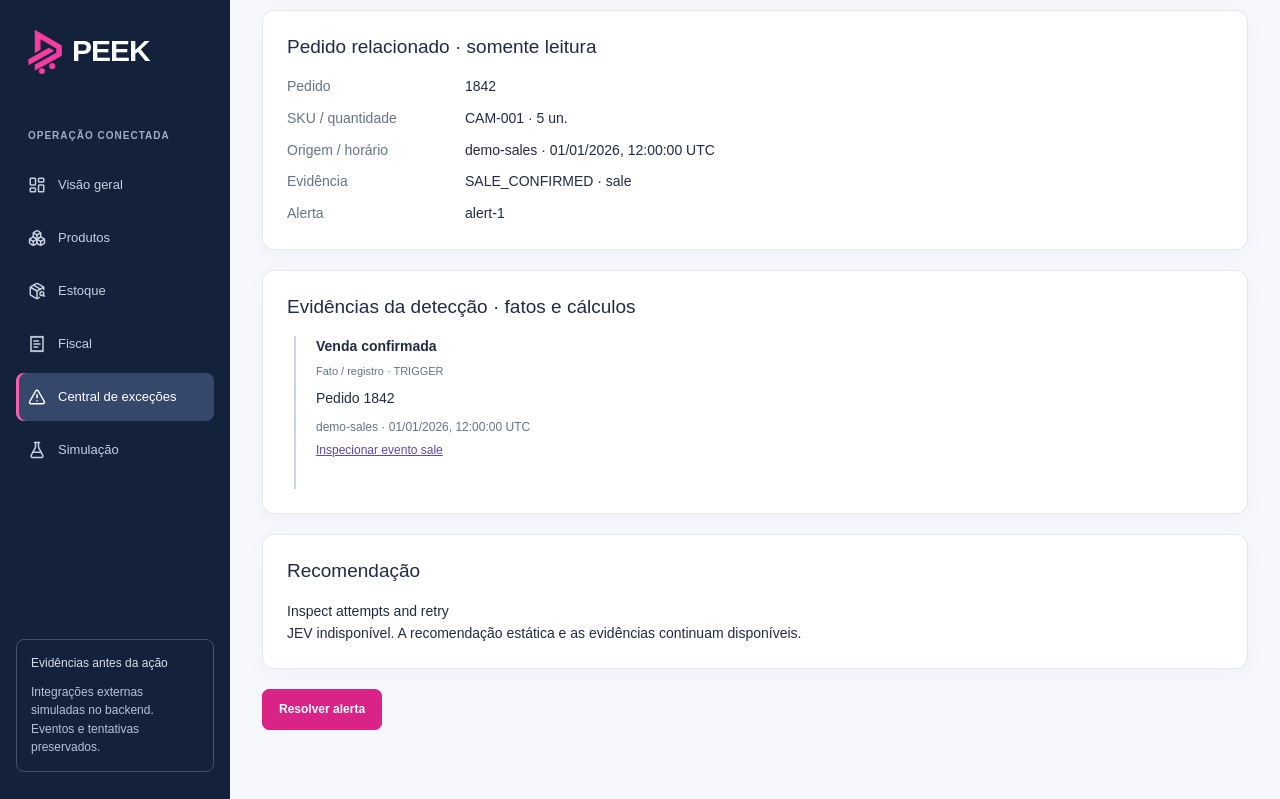
Test: API-backed investigation › resolution requires note, preserves error state and refreshes resolved details
(page scrolled)
Click the button "Resolver alerta".
click(322, 710)  # box [262,689,382,730]
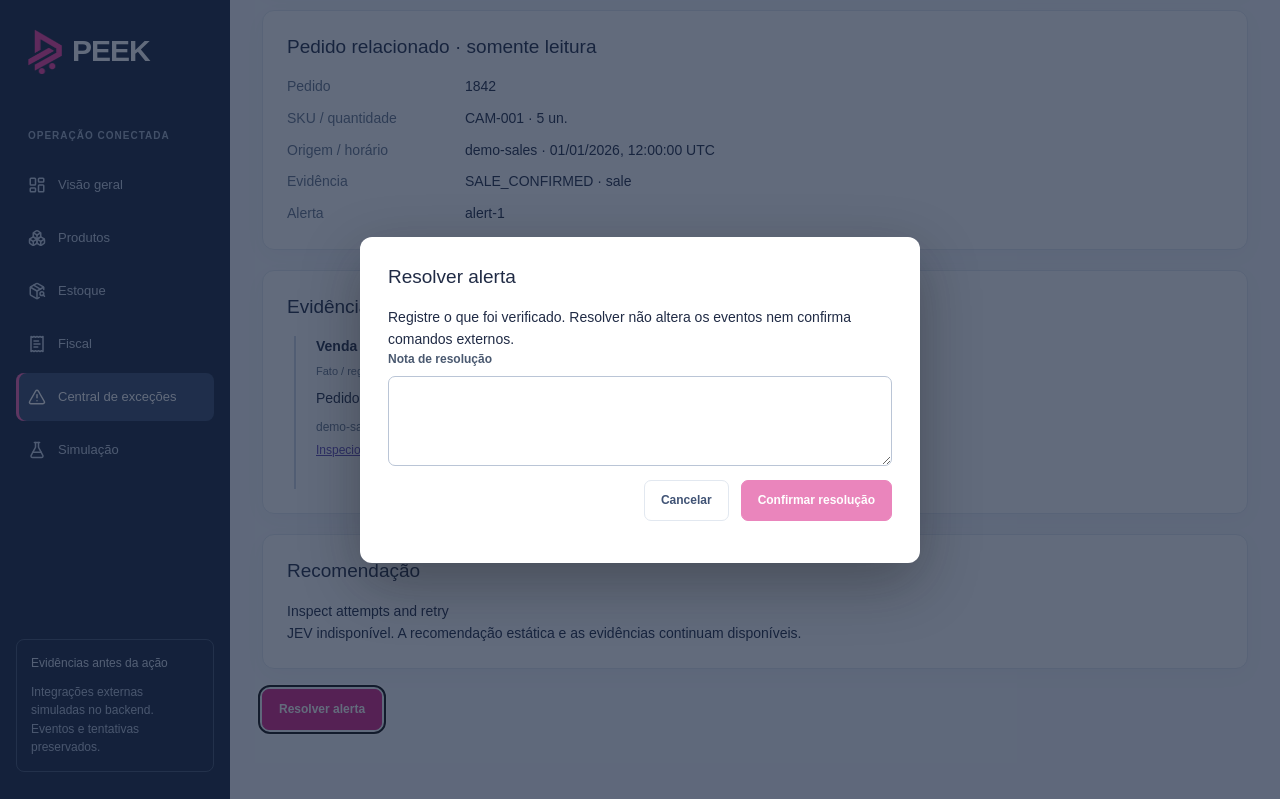
Expected: the button "Confirmar resolução" is disabled, [741,480,892,521]
Type "Contagem verificada" into the text box labelled "Nota de resolução".
click(640, 421); type("Contagem verificada")  # box [388,376,892,466]
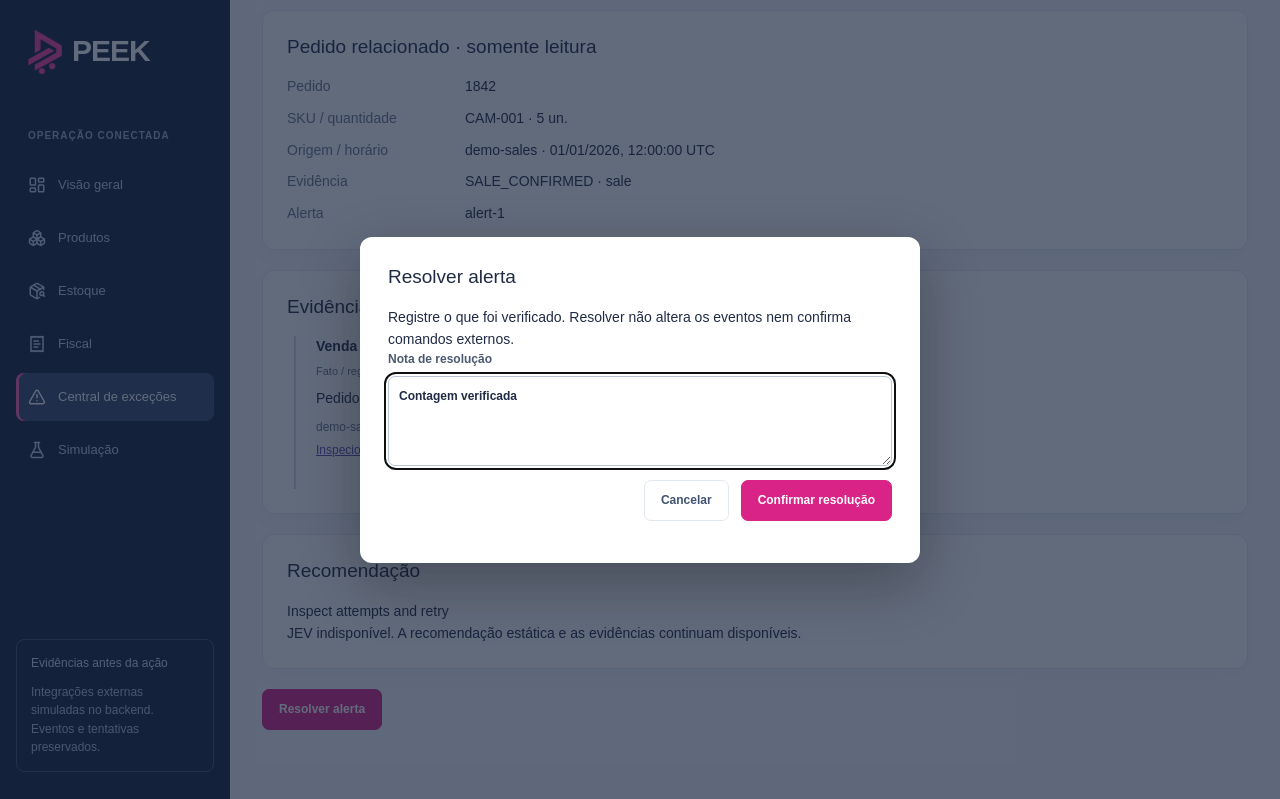
Click the button "Confirmar resolução".
click(816, 500)  # box [741,480,892,521]
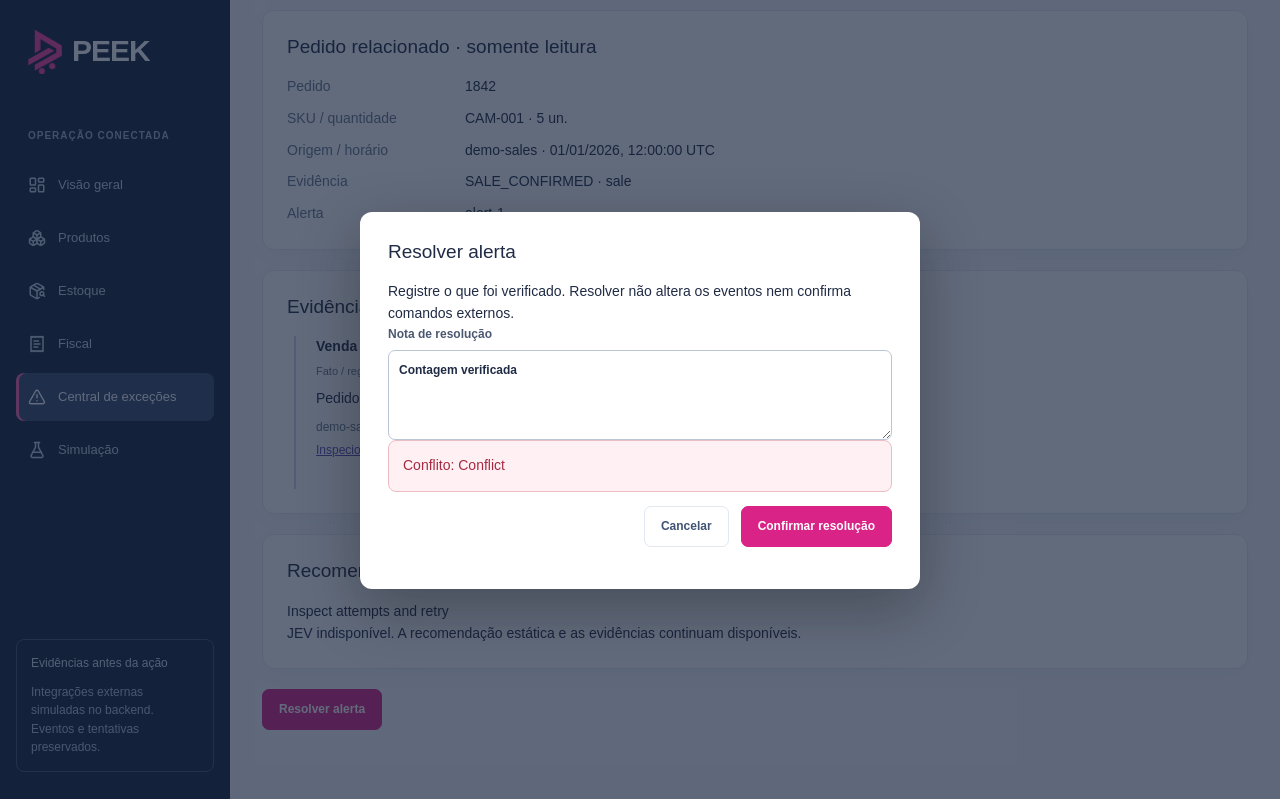
Expected: the message shows "Conflict", [403,457,505,473]
Click the button "Confirmar resolução".
click(816, 526)  # box [741,506,892,546]
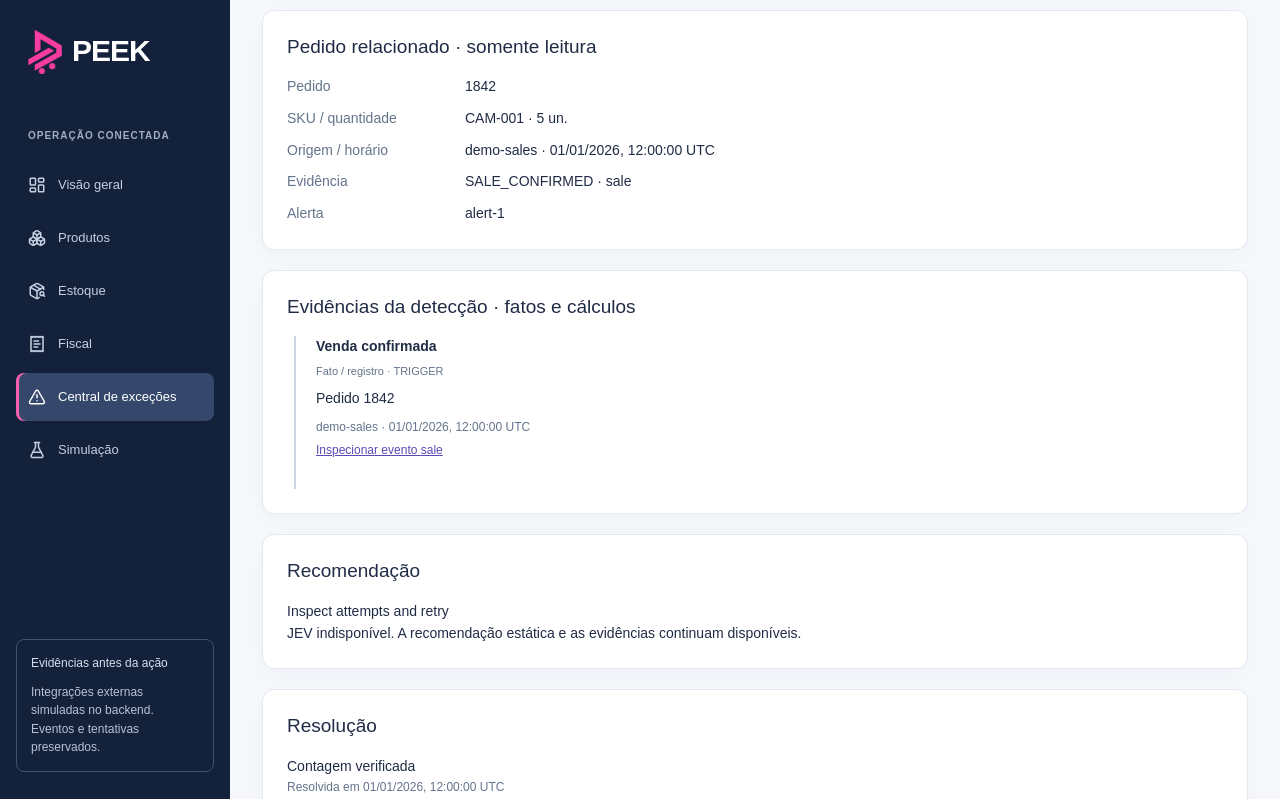
Expected: the text "Contagem verificada" is shown, [287,758,415,774]
